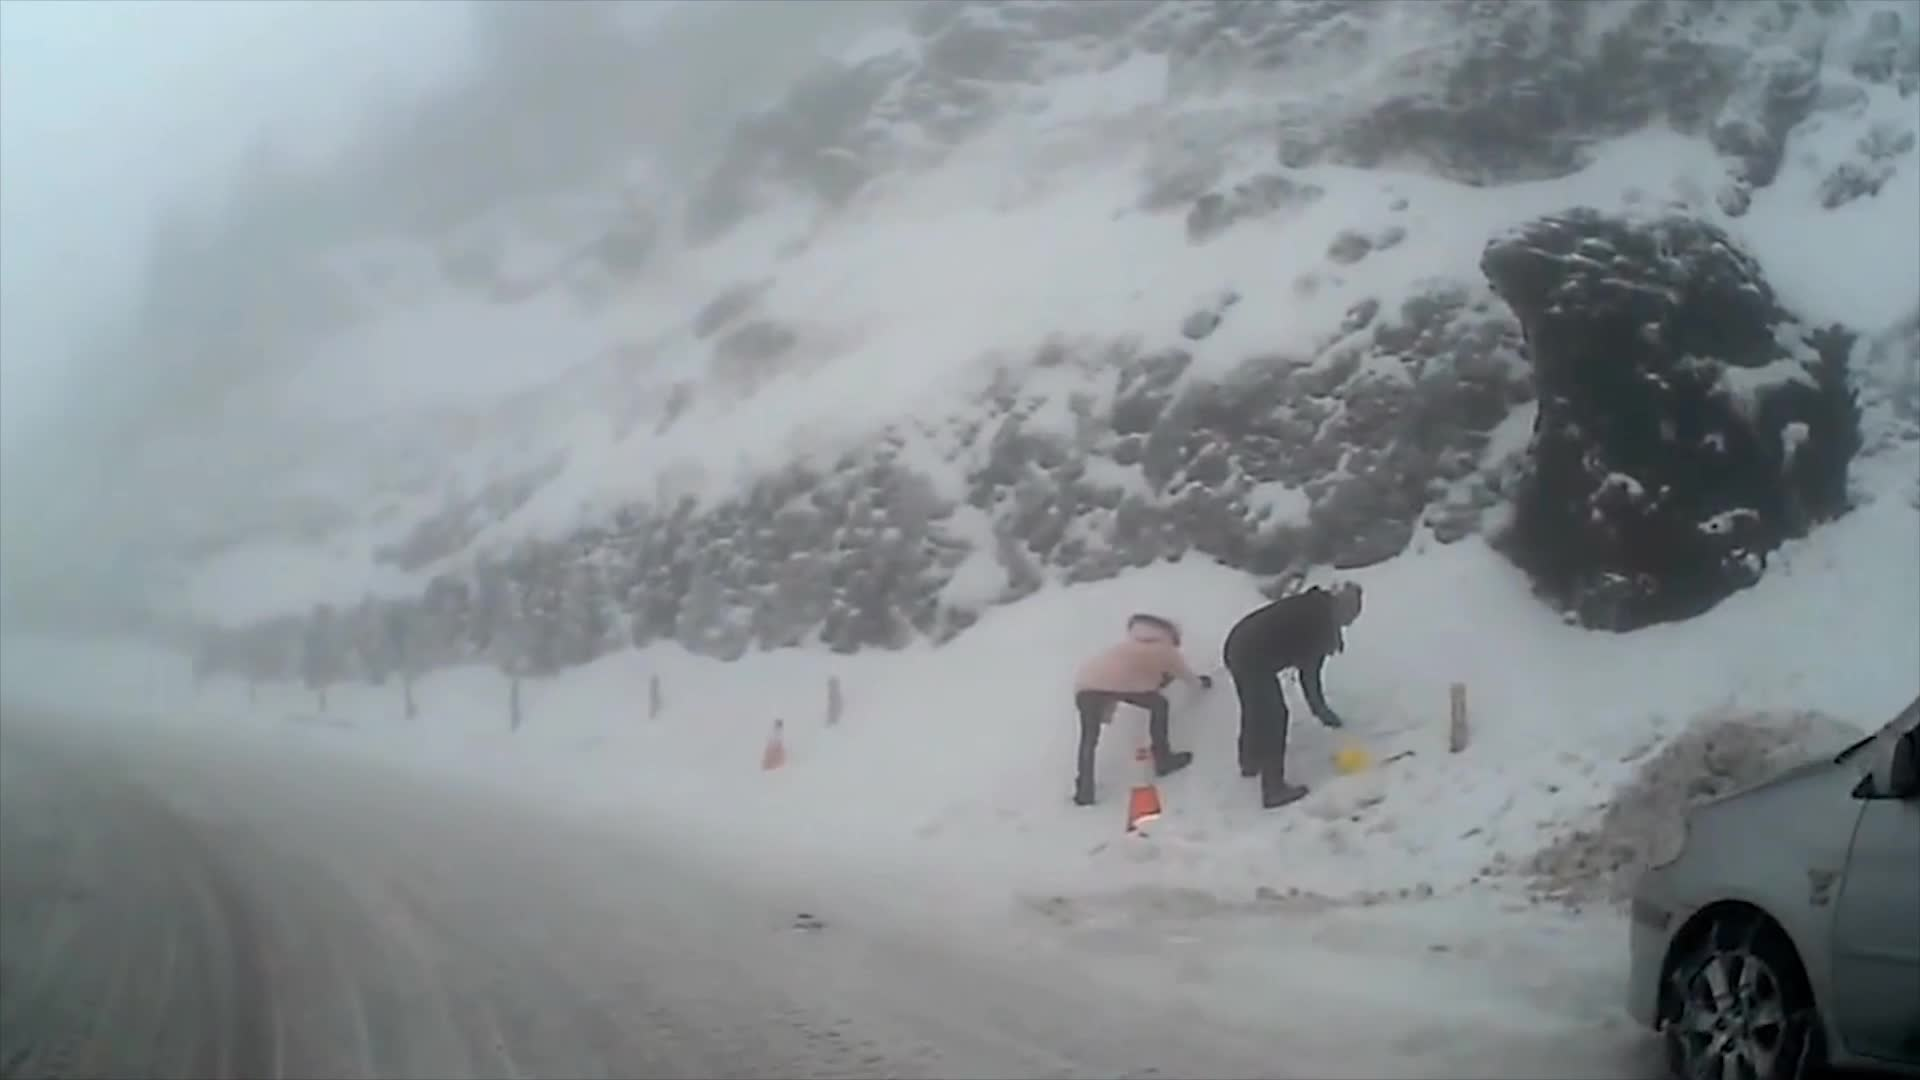pedestrian: (1222, 583, 1365, 810), (1068, 609, 1215, 809)
vehicle: (1622, 691, 1920, 1078)
